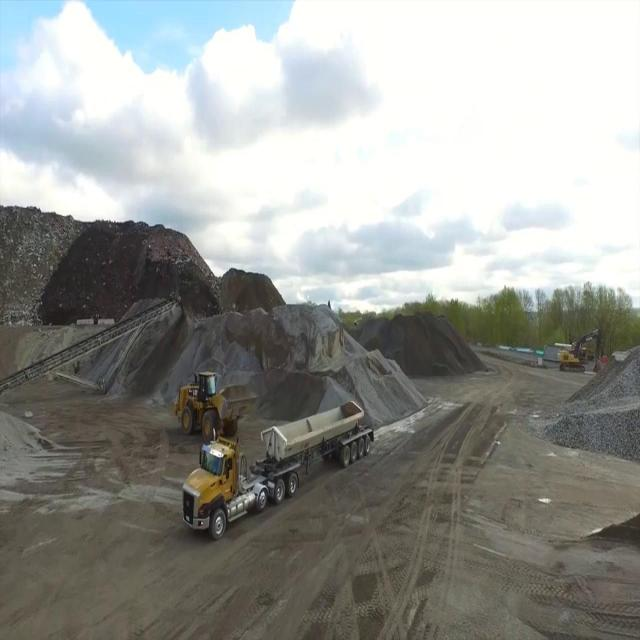Dump Truck: (181, 396, 375, 542)
Excavator: (556, 327, 602, 372)
Loader: (171, 368, 260, 444)
